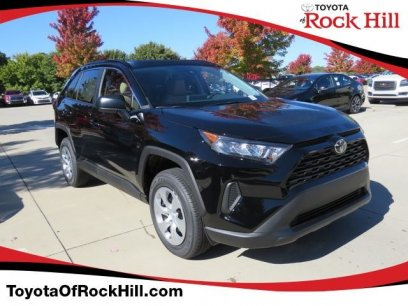Black Toyota RAV-4: (51, 58, 373, 260)
